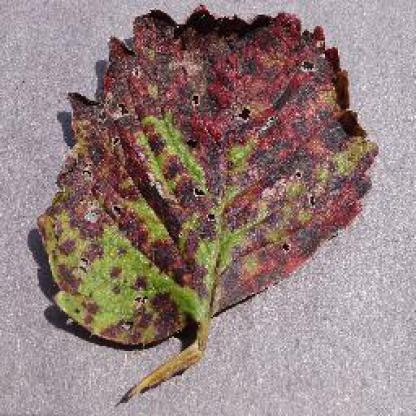leaf scorch: (33, 2, 385, 403)
